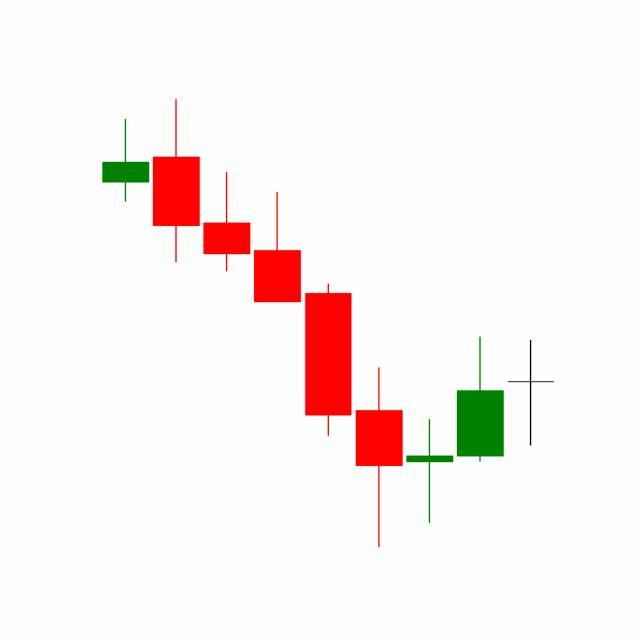Hikkake Pattern: (252, 188, 506, 549)
